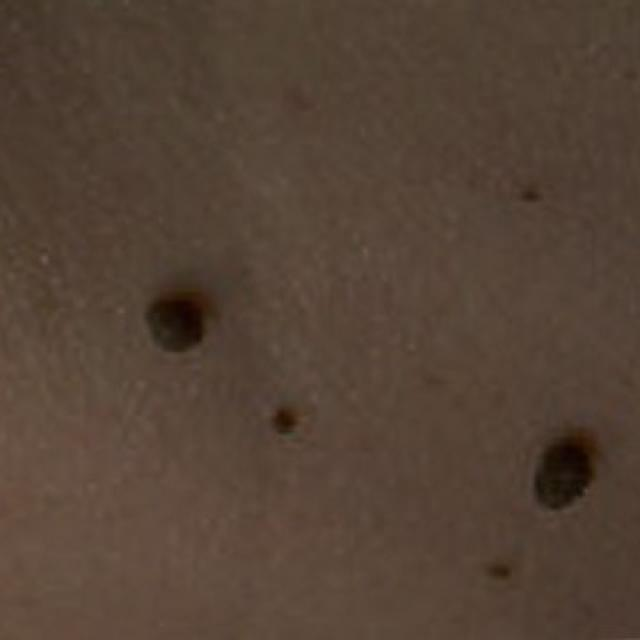wart: (112, 266, 254, 378), (511, 401, 618, 538), (243, 390, 320, 444)
